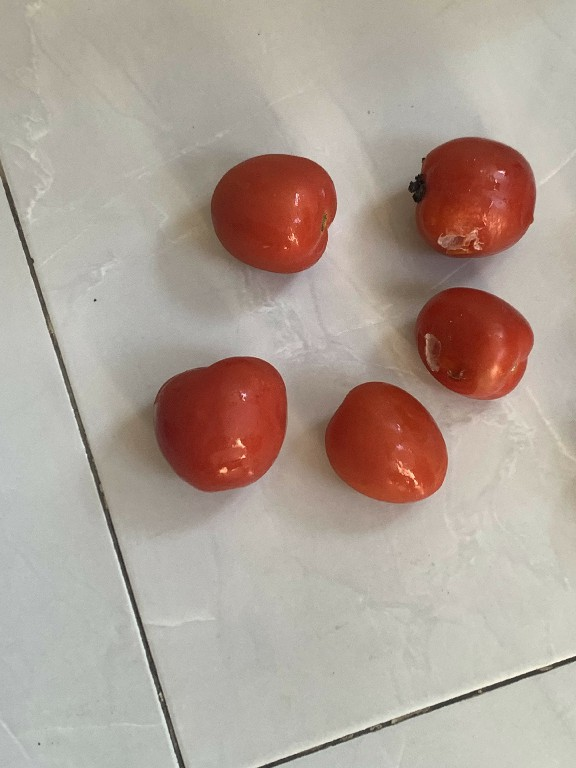NG: (398, 117, 539, 267), (401, 276, 543, 417)
OK: (140, 339, 303, 503), (308, 374, 460, 520), (193, 143, 347, 287)
